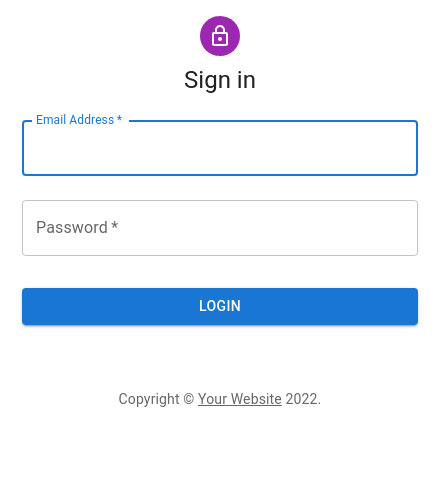
Test: login › should appear invalid credentials when email or password are incorrect
The image size is (441, 488).
Type "email@email.com" into the field labelled "Email Address *" at (220, 148), box [22,120,418,176]
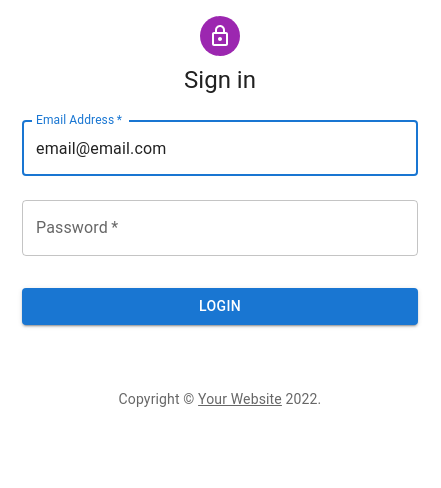
Type "Password!0" into the password field labelled "Password *" at (220, 228), box [22,200,418,256]
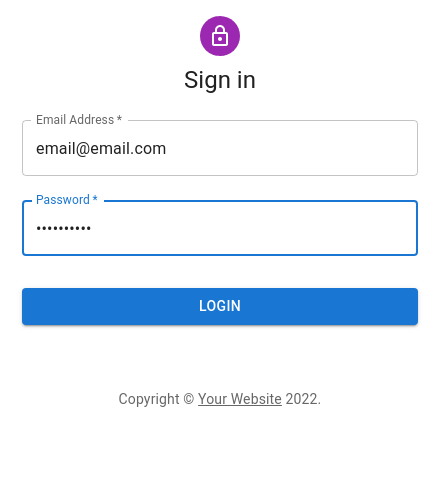
Click the button with test id "submit" at (220, 307), box [22,288,418,325]
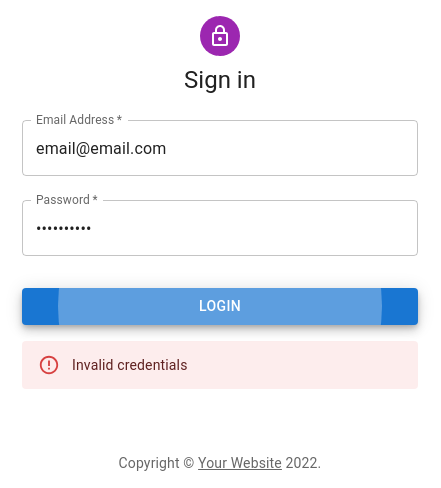
Expected: the message "Invalid credentials" is shown, [22,340,418,388]
